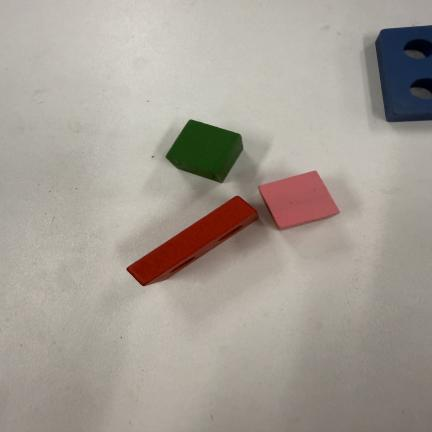BuildingBlocks: (127, 197, 258, 285), (375, 26, 432, 122), (167, 120, 242, 182), (259, 171, 339, 229)
